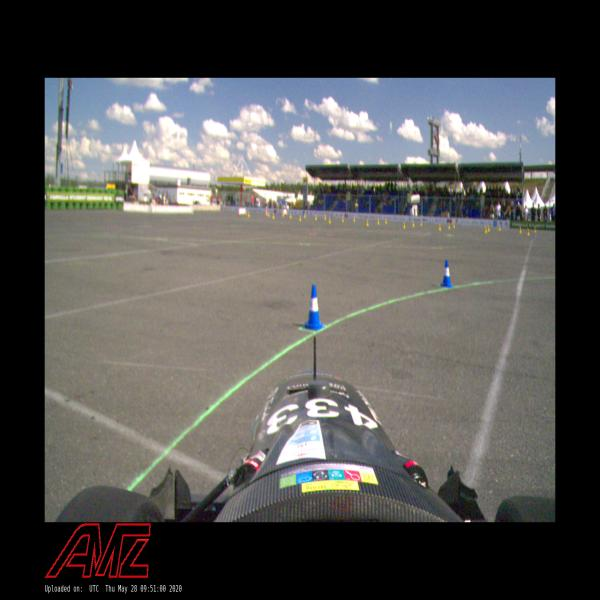blue_cone: (302, 284, 325, 330), (440, 259, 454, 288)
